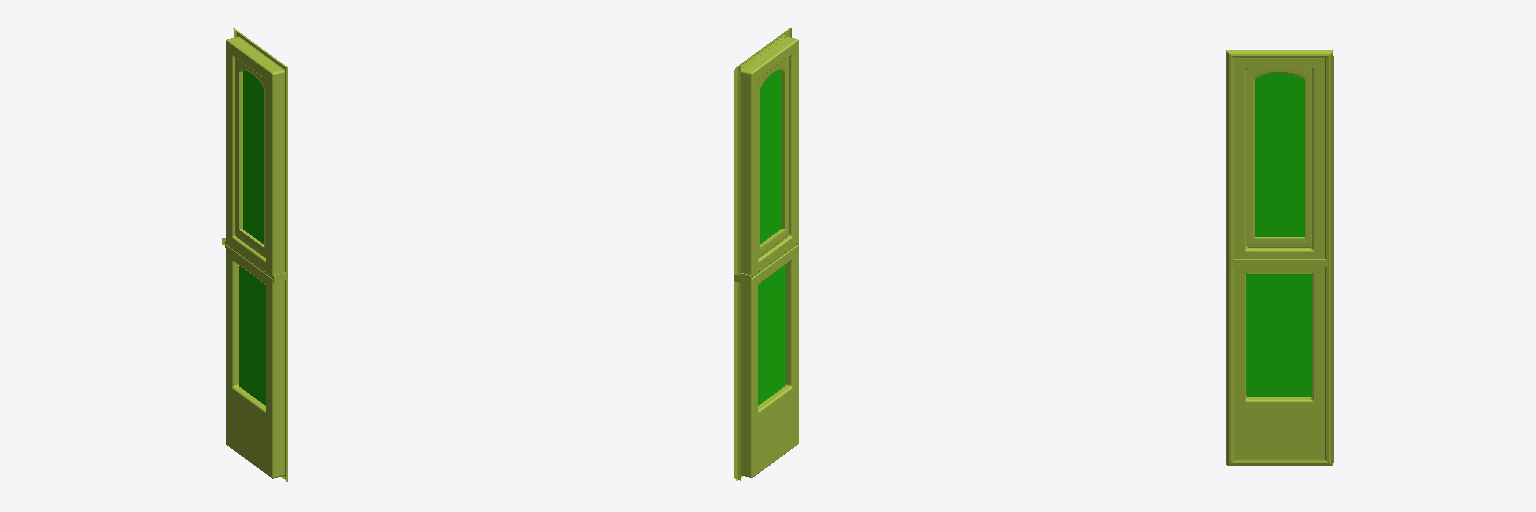
Rendered from tramdoor.obj.
3 views of the same model, side by side, from view 1: azimuth 30°, elevation 25°; view 2: azimuth 150°, elevation 25°; view 3: azimuth 270°, elevation 25° (orthographic).
Visible parts, largest first — view 1: porta; view 2: porta; view 3: porta.
Boxes of the visible parts, box(x1,y1,x2,y2) form: porta: box(222, 28, 287, 481); porta: box(734, 28, 798, 480); porta: box(1226, 50, 1333, 465).
Bounding box in the file's own units: 0.0156 × 0.4157 × 0.098.